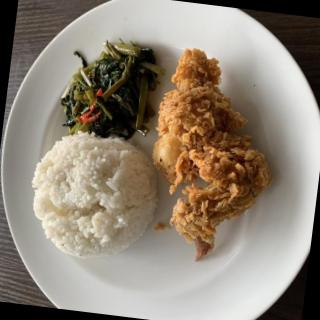Nasi: (26, 127, 164, 267)
